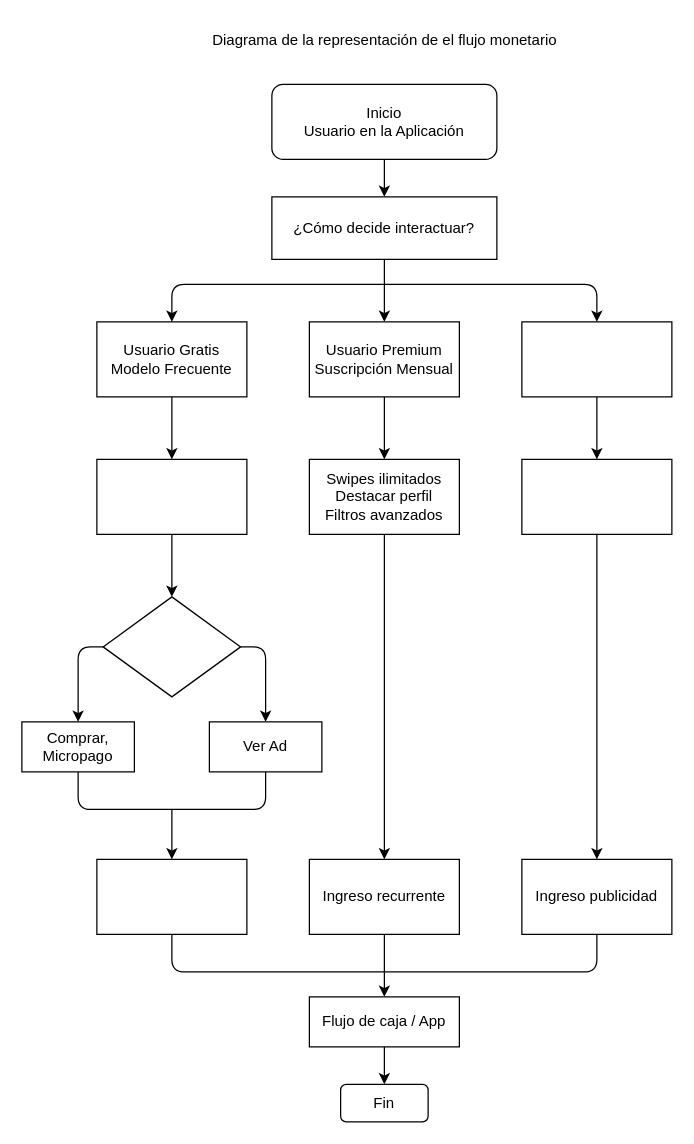
This 694x1144 diagram has some shape labels left out. The shapes that lost their labels are listed below. From the top down, each one's box as (x1, y1, x2, y2) in pixels, then its label:
(521, 321, 672, 397): Anunciantes / Marcas Publicidad Educativa
(96, 458, 247, 534): Límite de swipes diarios
(521, 458, 672, 534): Banners / Cards Promocionadas de cursos, utiles, universidades
(102, 596, 241, 697): ¿Quiere más swipes hoy?
(96, 858, 247, 934): Ingreso micropago
